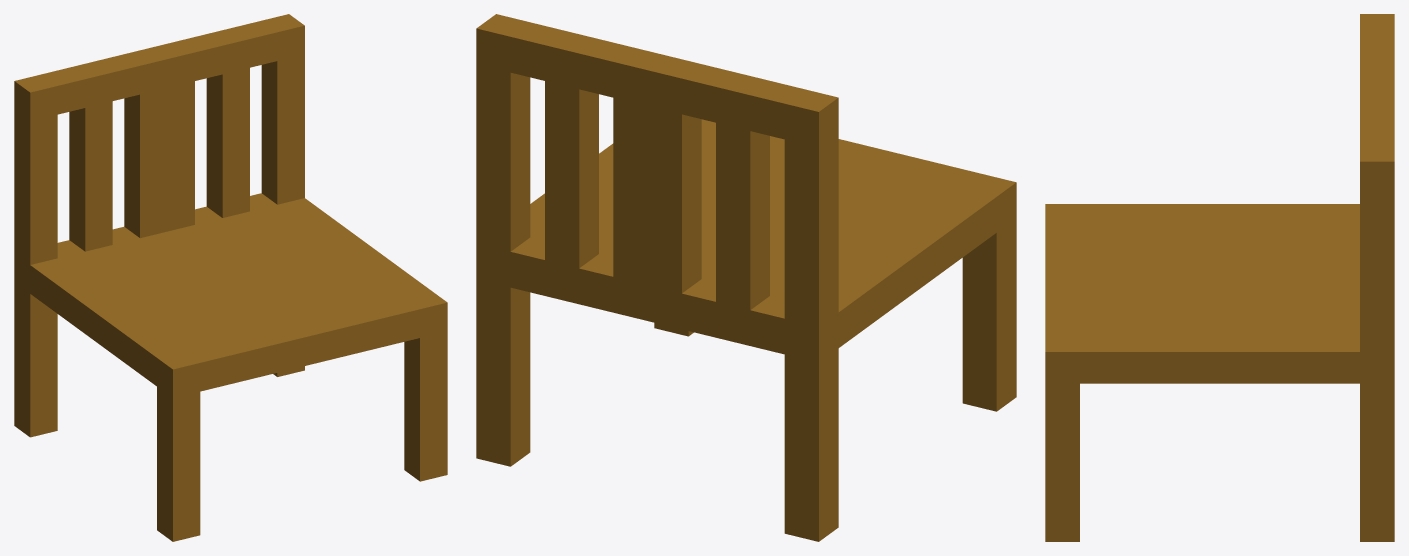
Rendered from obj_chair_normal.obj.
3 views of the same model, side by side, from view 1: azimuth 30°, elevation 25°; view 2: azimuth 150°, elevation 25°; view 3: azimuth 270°, elevation 25° (orthographic). The views are drawn at different scales.
Parts seen in each view (by area): view 1: obj_chair_normal; view 2: obj_chair_normal; view 3: obj_chair_normal.
Boxes of the visible parts, x1=… form: obj_chair_normal: x1=14, y1=14, x2=447, y2=541; obj_chair_normal: x1=476, y1=14, x2=1016, y2=541; obj_chair_normal: x1=1045, y1=14, x2=1394, y2=541.
Bounding box in the file's own units: 10 × 12 × 10.
Materials: 1 (1 with a texture image).
